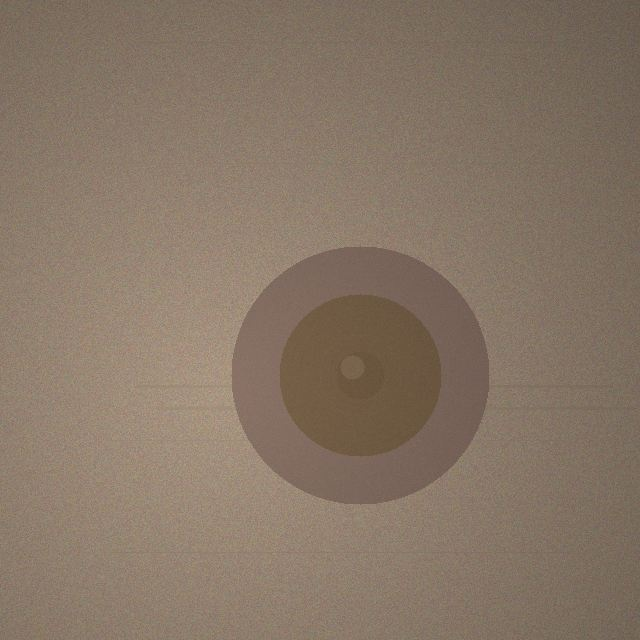good: (231, 246, 489, 504)
